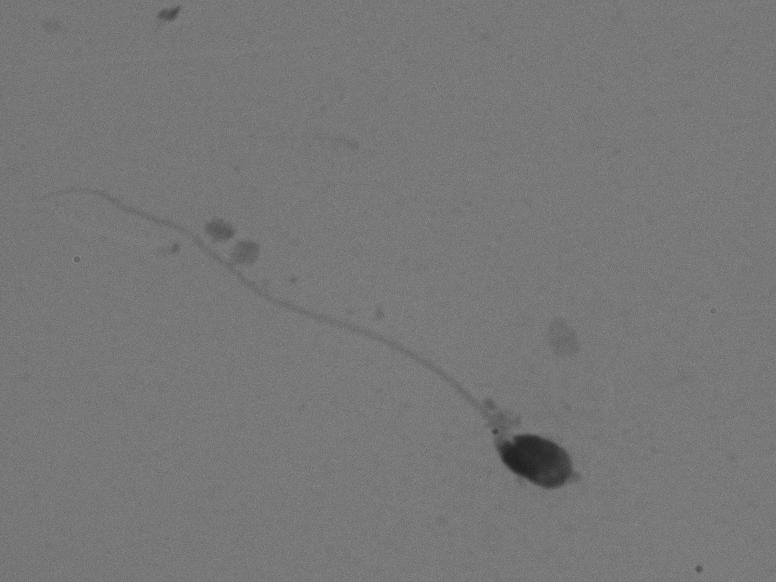Abnormal: (16, 125, 605, 496)
